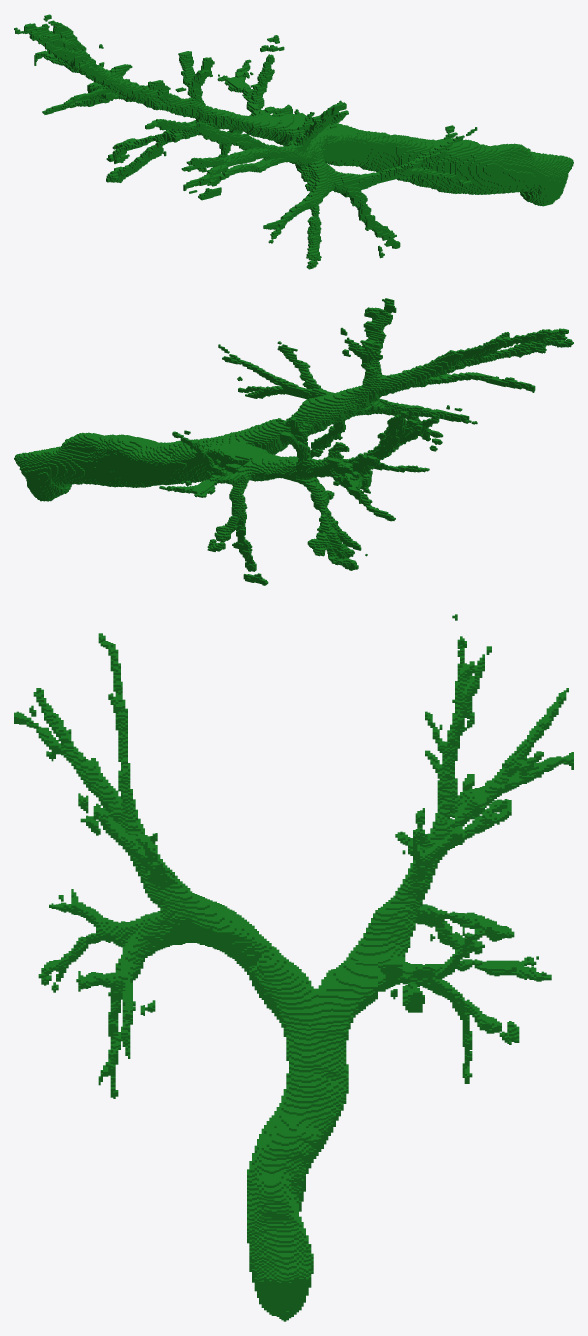
Rendered from segmentation_reduced_image.obj.
The picture shows the model from 3 angles, top to bottom: view 1: azimuth 30°, elevation 25°; view 2: azimuth 150°, elevation 25°; view 3: azimuth 270°, elevation 25°; orthographic projection. The views are drawn at different scales.
Size of the model in its own units: 13.19 by 6.38 by 8.8.
